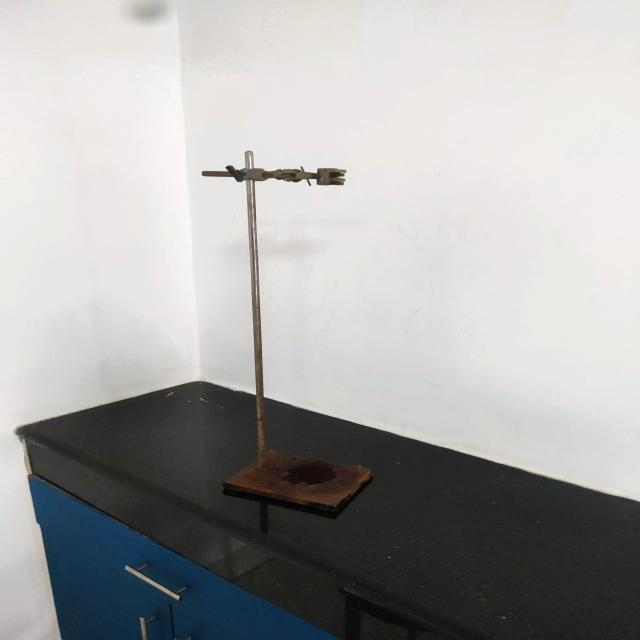Burette_Stands: (166, 118, 438, 552)
